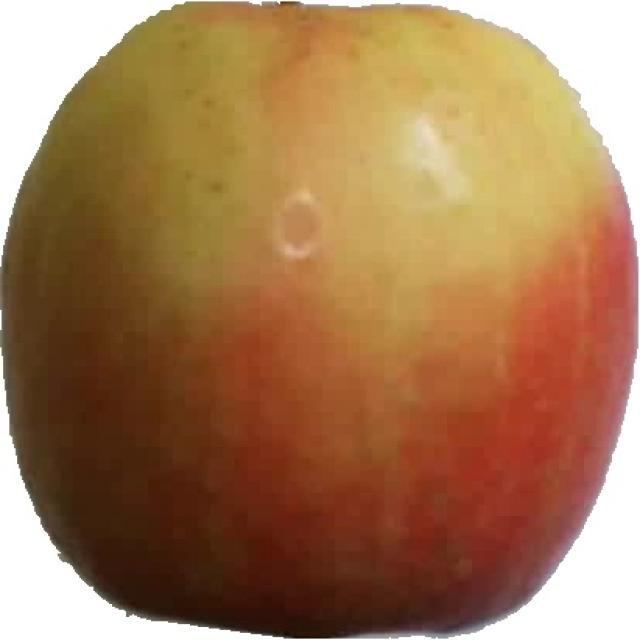apple: (5, 3, 636, 636)
